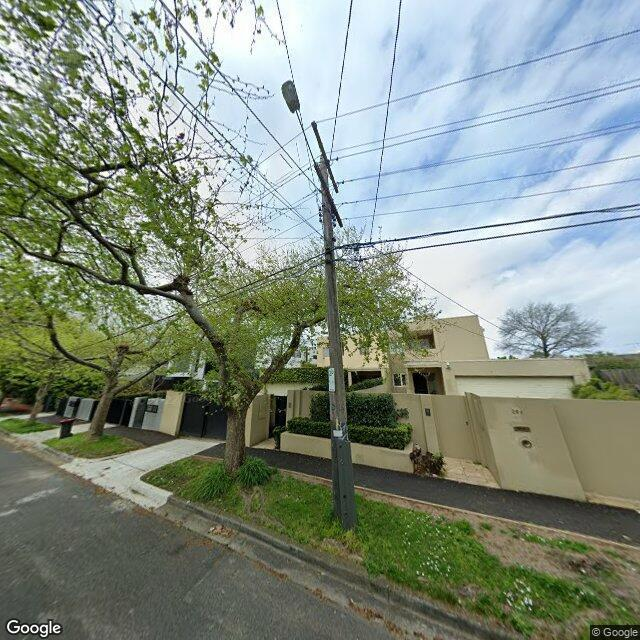crossarm: (313, 162, 343, 227), (311, 121, 338, 193)
streetlight: (282, 80, 315, 166)
timber-pole: (319, 156, 352, 528)
